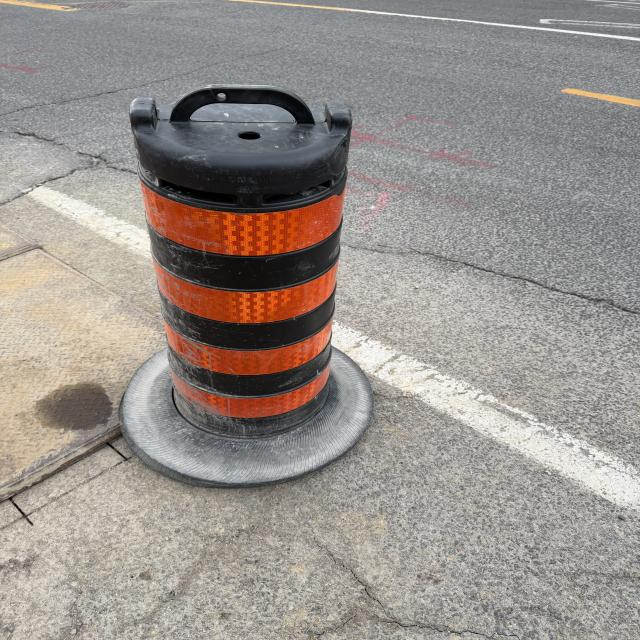Teraffic Barrel: (120, 86, 372, 486)
